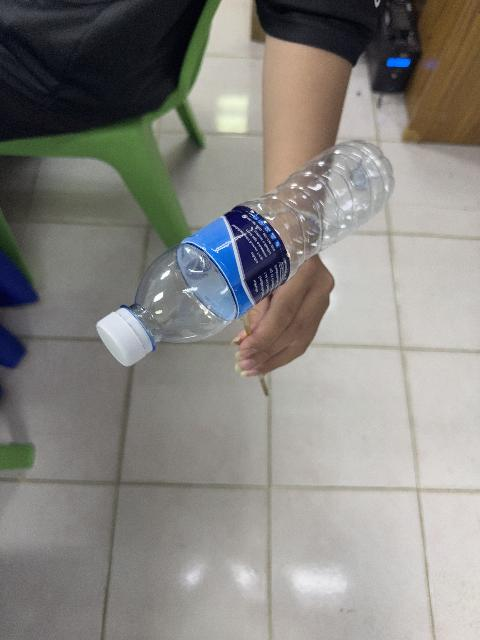bottle: (96, 141, 392, 365)
